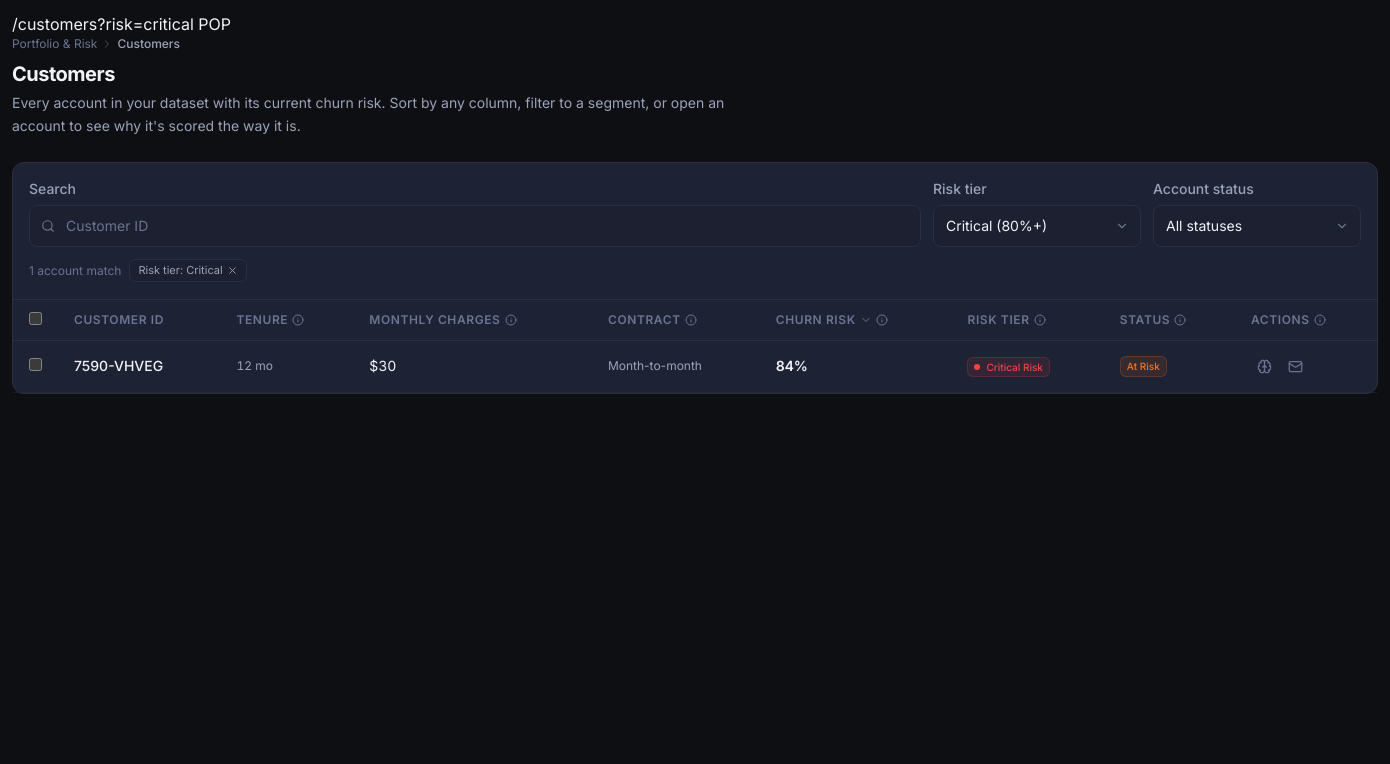
Test: Customers — drilling into an account and back › offers the workflow position as breadcrumbs
Click the link "7590-VHVEG" at point(119, 366), box [74,357,163,374]
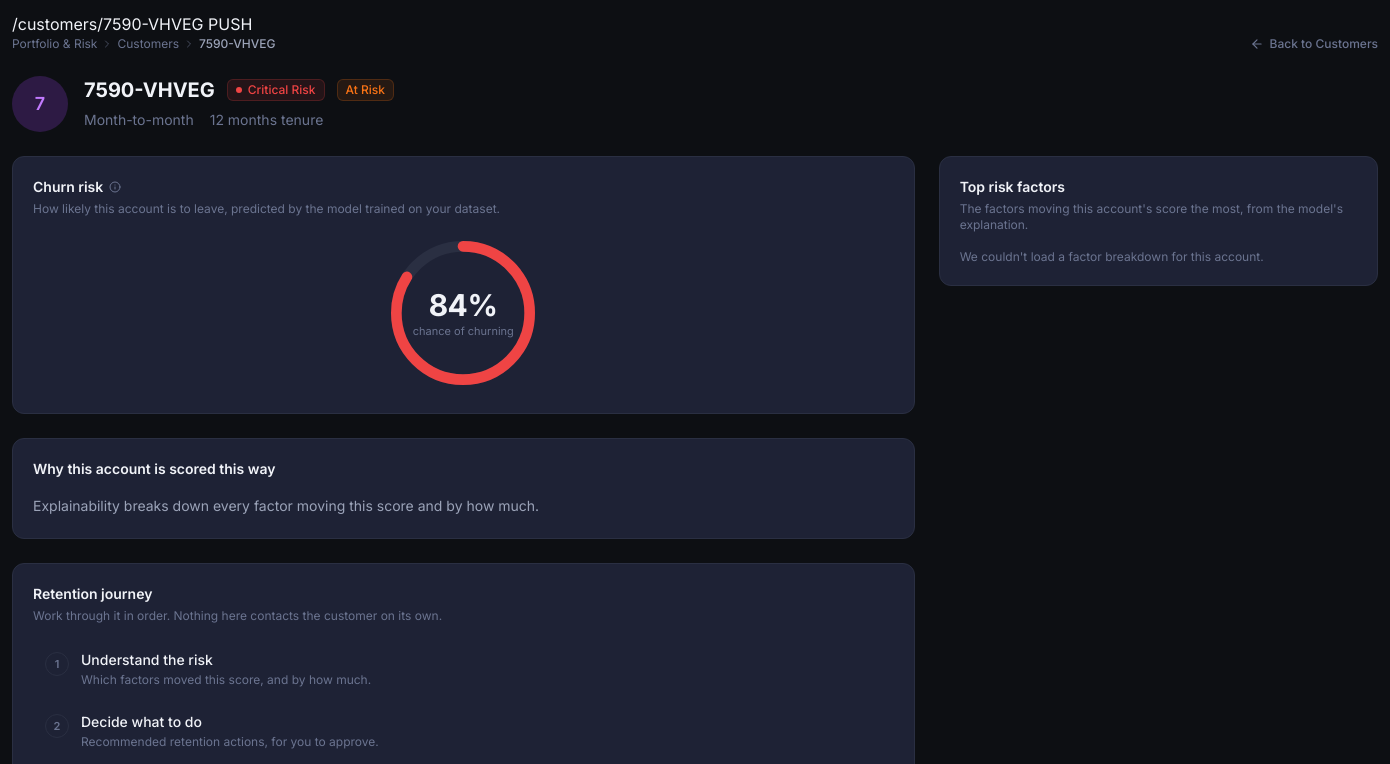
Expected: the navigation bar named "breadcrumb" shows "Portfolio & Risk", [12,36,98,52]
Result: the text "7590-VHVEG" is shown at [199,36,275,52]
